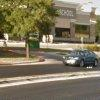Car: (59, 44, 100, 82)
